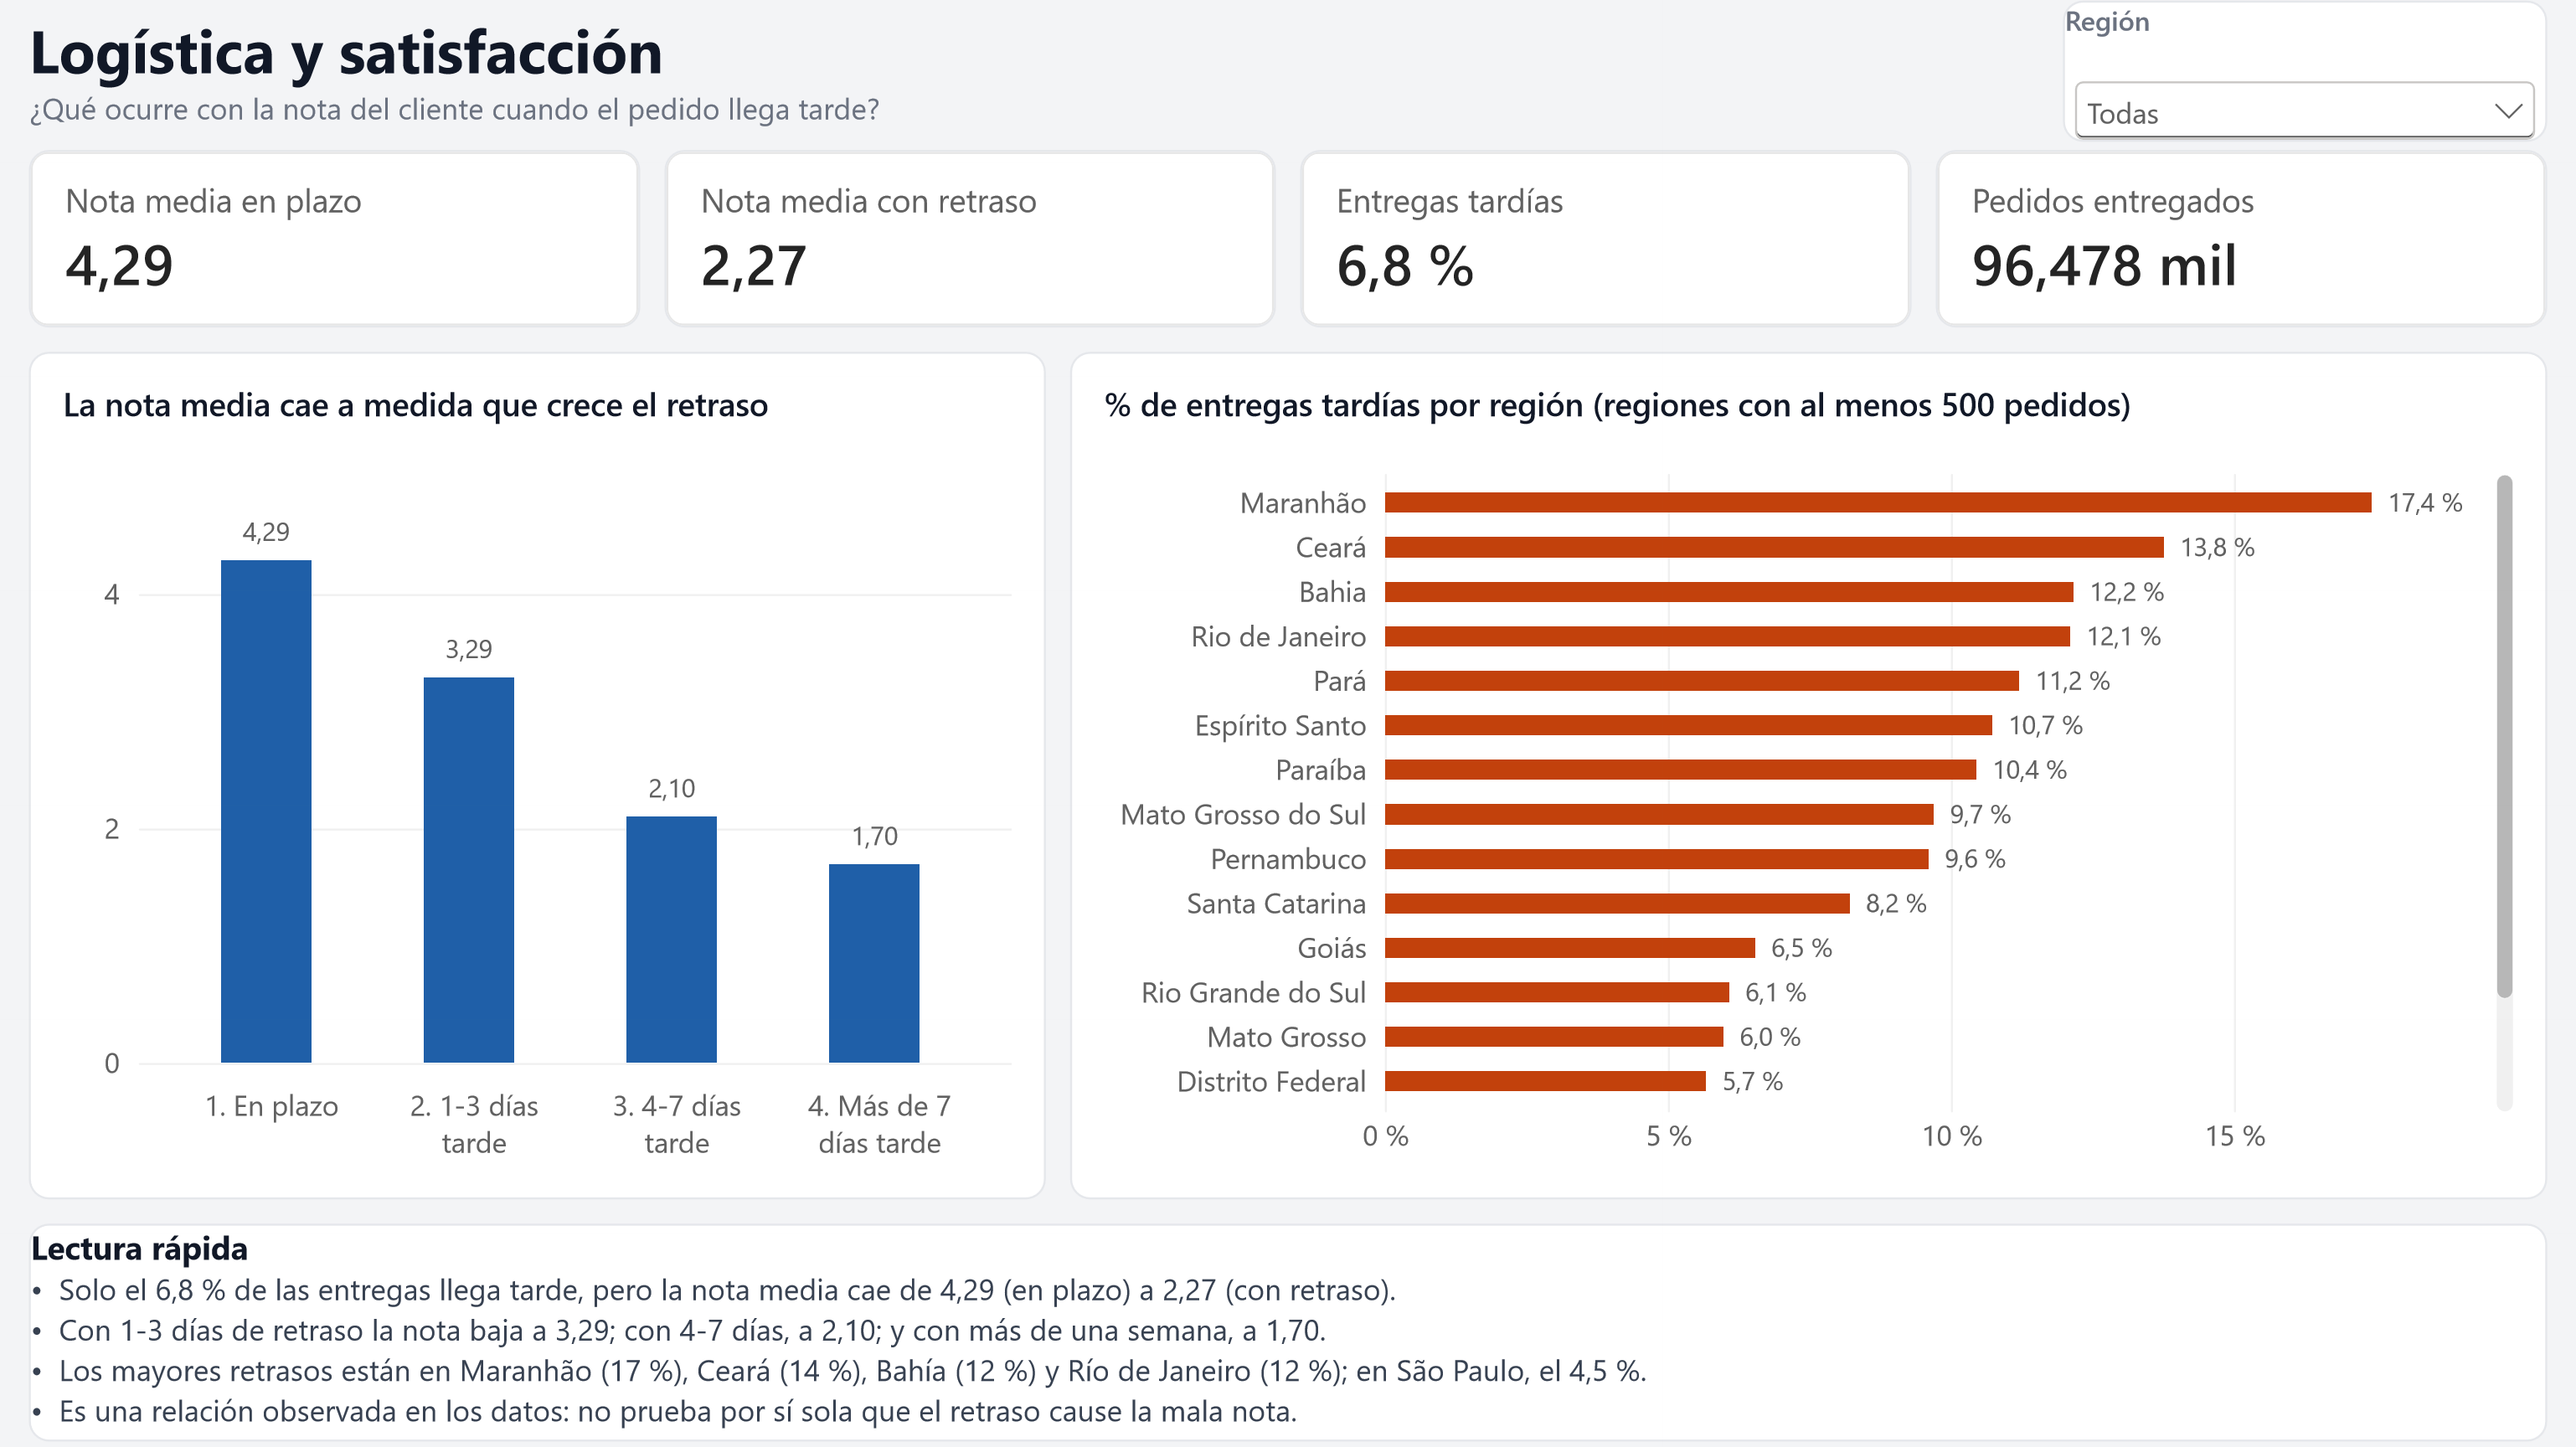

What the dashboard file says about the page in this screenshot:
{"tool":"powerbi","page":{"name":"Logística y satisfacción","canvas":[1280,720],"ordinal":1},"visuals":[{"type":"clusteredColumnChart","title":"La nota media cae a medida que crece el retraso","fields":{"Category":["Pedidos.tramo_retraso"],"Y":["Pedidos.Nota media"]},"box":[16,176,504,420],"z":0},{"type":"cardVisual","fields":{"Data":["Pedidos.Nota media con retraso"]},"box":[331,76,303,88],"z":1000},{"type":"cardVisual","fields":{"Data":["Pedidos.Entregas tardías"]},"box":[646,76,303,88],"z":1002},{"type":"cardVisual","fields":{"Data":["Pedidos.Pedidos entregados"]},"box":[961,76,303,88],"z":1003},{"type":"cardVisual","fields":{"Data":["Pedidos.Nota media en plazo"]},"box":[16,76,303,88],"z":2000},{"type":"clusteredBarChart","title":"% de entregas tardías por región (regiones con al menos 500 pedidos)","fields":{"Category":["Pedidos.estado_nombre"],"Y":["Pedidos.Entregas tardías"]},"box":[532,176,732,420],"z":3000},{"type":"textbox","box":[16,6,980,60],"z":9000},{"type":"textbox","box":[16,608,1248,108],"z":9100},{"type":"slicer","title":"Región","fields":{"Values":["Pedidos.estado_nombre"]},"box":[1024,2,240,70],"z":9200}]}

Visuals, with their boxes in screenshot pixels (x1, y1, x2, y2), scaled from the page's 1280x720 canvas onto the 2576x1447 screenshot:
"La nota media cae a medida que crece el retraso" clusteredColumnChart: l=32, t=353, r=1047, b=1197
cardVisual - Pedidos.Nota media con retraso: l=666, t=152, r=1276, b=330
cardVisual - Pedidos.Entregas tardías: l=1300, t=152, r=1910, b=330
cardVisual - Pedidos.Pedidos entregados: l=1934, t=152, r=2544, b=330
cardVisual - Pedidos.Nota media en plazo: l=32, t=152, r=642, b=330
"% de entregas tardías por región (regiones con al menos 500 pedidos)" clusteredBarChart: l=1070, t=353, r=2544, b=1197
textbox: l=32, t=12, r=2005, b=132
textbox: l=32, t=1222, r=2544, b=1439
"Región" slicer: l=2061, t=4, r=2544, b=145
